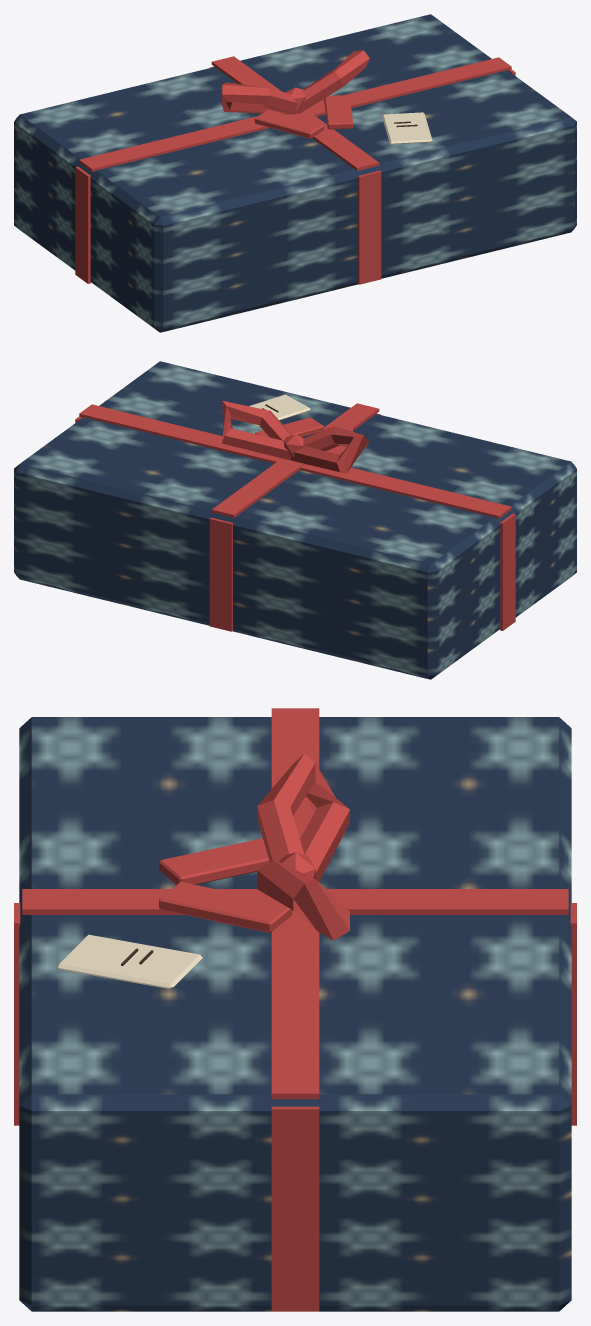
File: parcel_flake.glb
3 renders of one model, top to bottom at view 1: azimuth 30°, elevation 25°; view 2: azimuth 150°, elevation 25°; view 3: azimuth 270°, elevation 25°, orthographic. The views are drawn at different scales.
Parts seen in each view (by area): view 1: parcel_flake; view 2: parcel_flake; view 3: parcel_flake.
Boxes of the visible parts, <box> form: parcel_flake: <box>14,14,576,332</box>; parcel_flake: <box>14,361,576,679</box>; parcel_flake: <box>14,708,576,1311</box>.
Size of the model in its own units: 0.445 by 0.1612 by 0.27.
4 materials, 1 textured.
